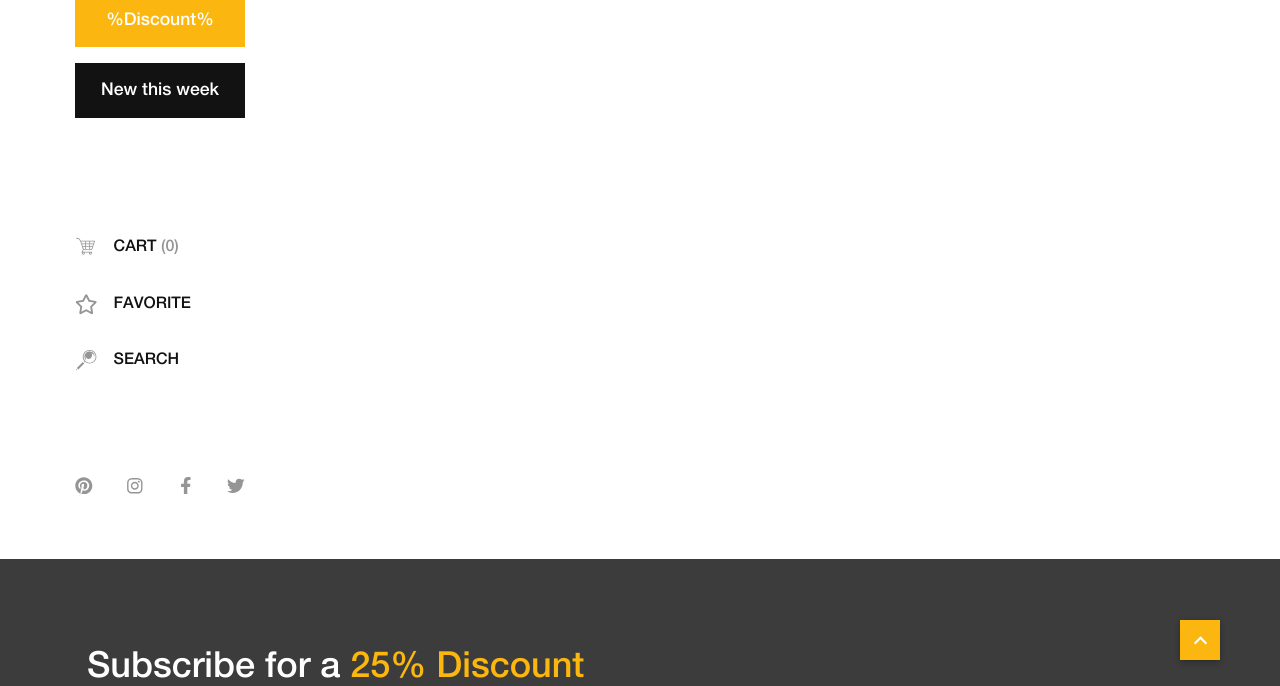
Test: Search spec › Should be hidden when the page loads and visible when the sidebar search button is clicked
(page scrolled)
Click the button "search" at (160, 360), box [75,333,245,387]
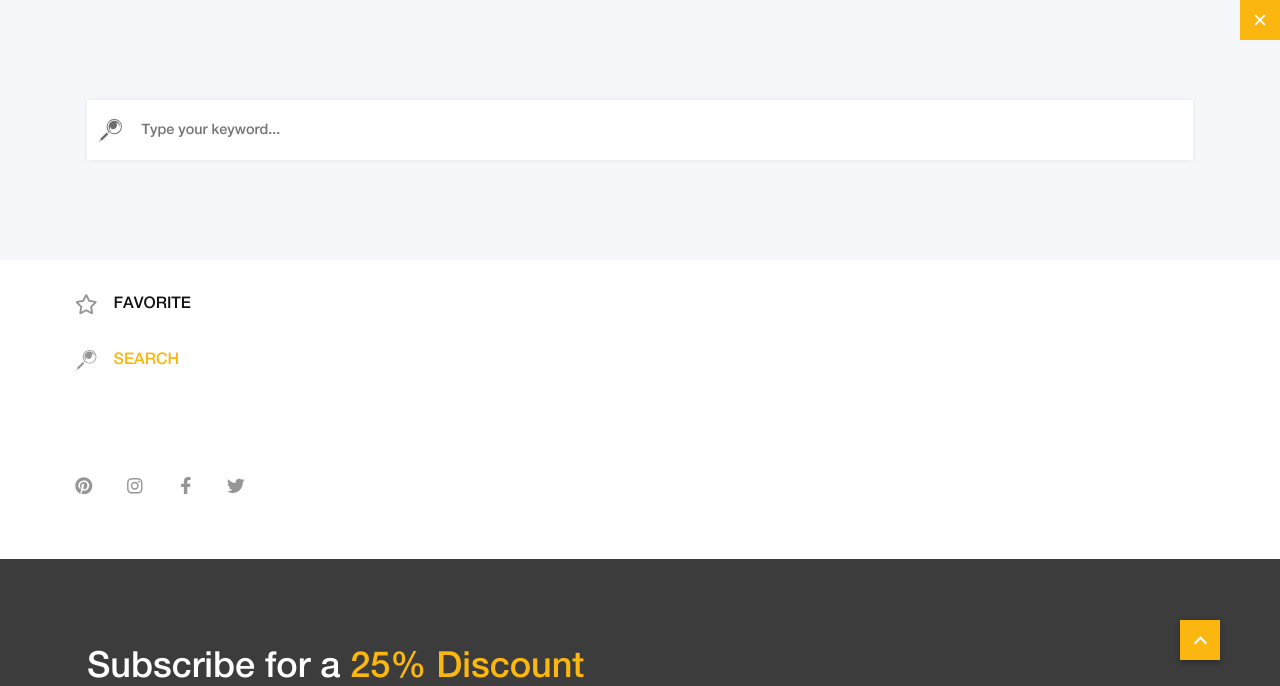
Expected: the element with id "search-container" is shown, [0,0,1279,260]
